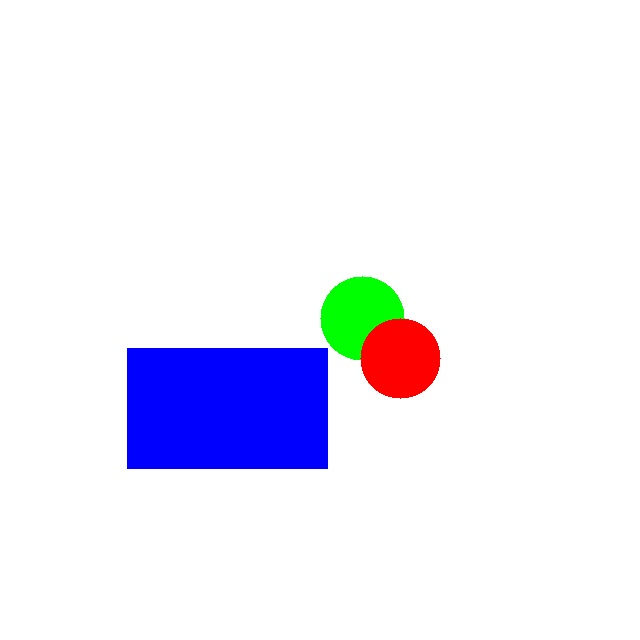cartao: (127, 348, 327, 468)
rosca_externa: (320, 276, 404, 360)
rosca_interna: (360, 318, 440, 398)
